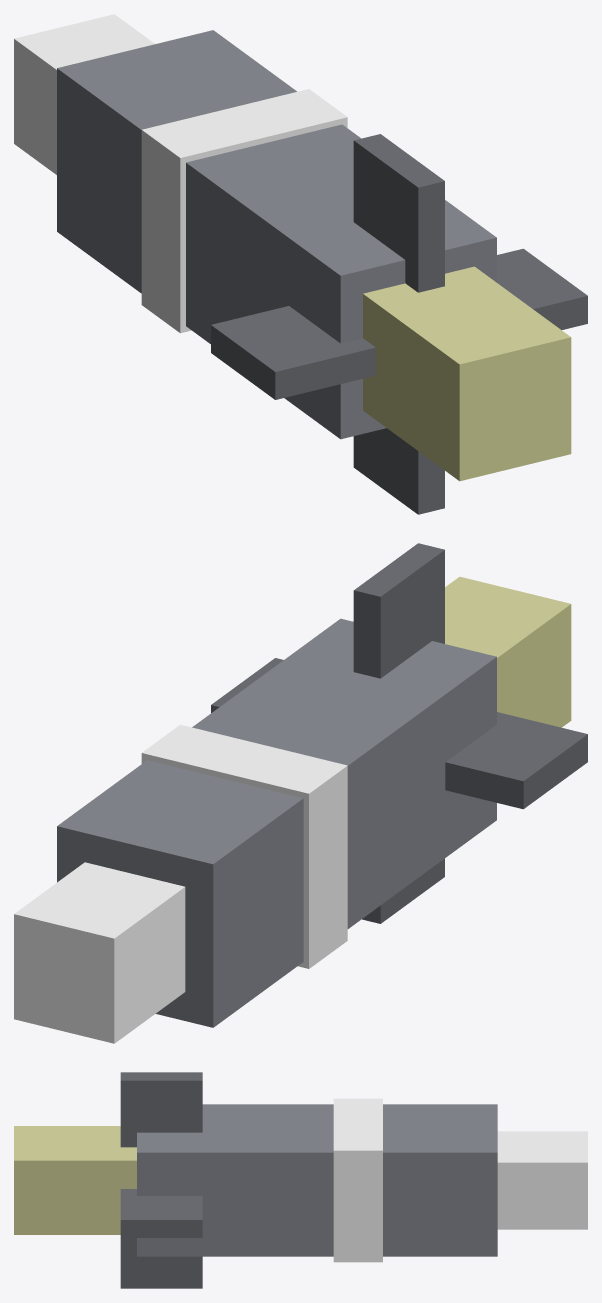
Rendered from ROCKET.gltf.
3 views of the same model, one above another, from view 1: azimuth 30°, elevation 25°; view 2: azimuth 150°, elevation 25°; view 3: azimuth 270°, elevation 25° (orthographic). The views are drawn at different scales.
Parts seen in each view (by area): view 1: ROCKET; view 2: ROCKET; view 3: ROCKET.
Boxes of the visible parts, <box> form: ROCKET: <box>14,14,587,514</box>; ROCKET: <box>14,543,587,1043</box>; ROCKET: <box>14,1072,587,1288</box>.
Size of the model in its own units: 0.28 by 0.28 by 0.7.
